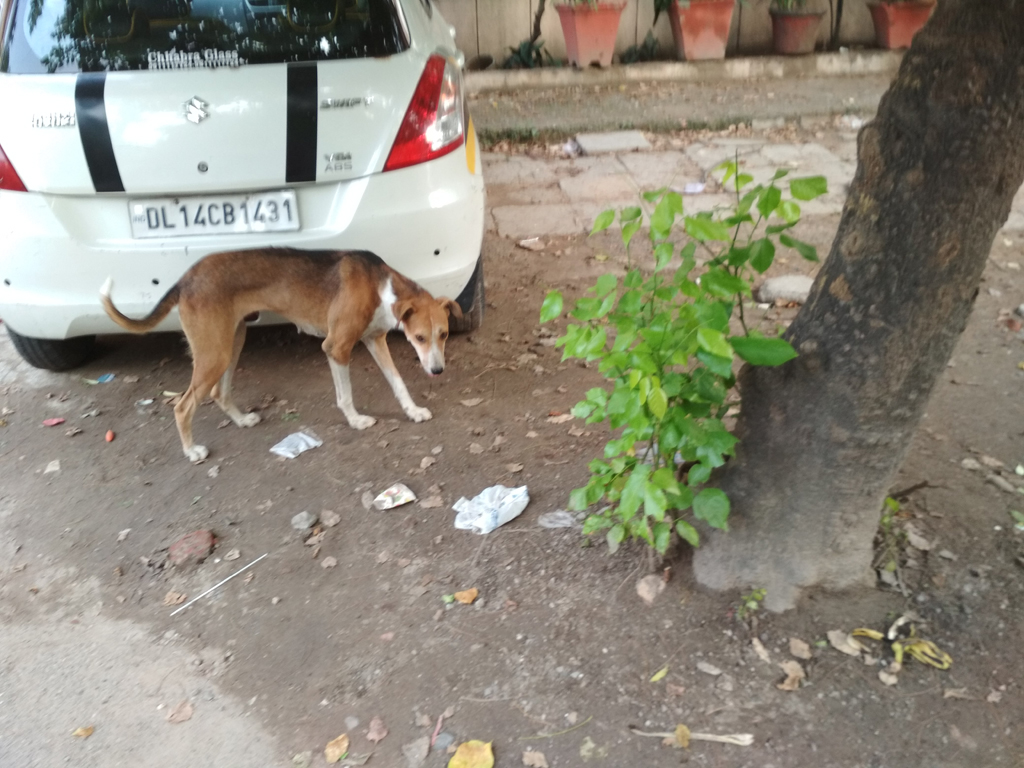dog: (101, 247, 464, 464)
